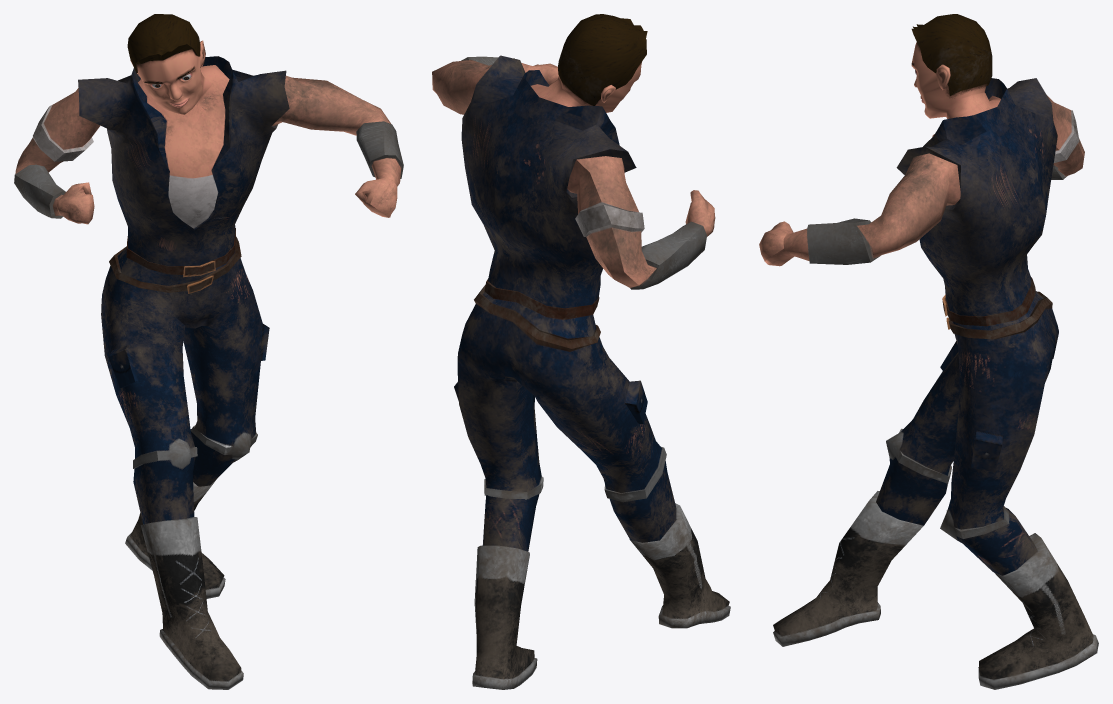
The model's file is Anim_ataque_d2_jugador.0031.obj.
3 renders of one model, left to right at view 1: azimuth 30°, elevation 25°; view 2: azimuth 150°, elevation 25°; view 3: azimuth 270°, elevation 25°, orthographic. The views are drawn at different scales.
Parts seen in each view (by area): view 1: polySurface1; view 2: polySurface1; view 3: polySurface1.
Part boxes in pixels (x1,y1,x2,y2): polySurface1: (14, 14, 403, 689); polySurface1: (432, 14, 730, 689); polySurface1: (759, 14, 1098, 689).
Bounding box in the file's own units: 4.72 × 9.21 × 4.47.
